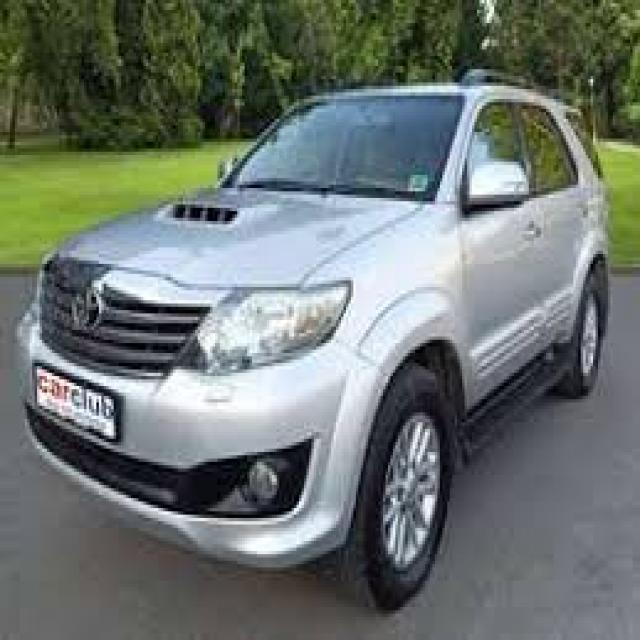car: (15, 69, 610, 584)
